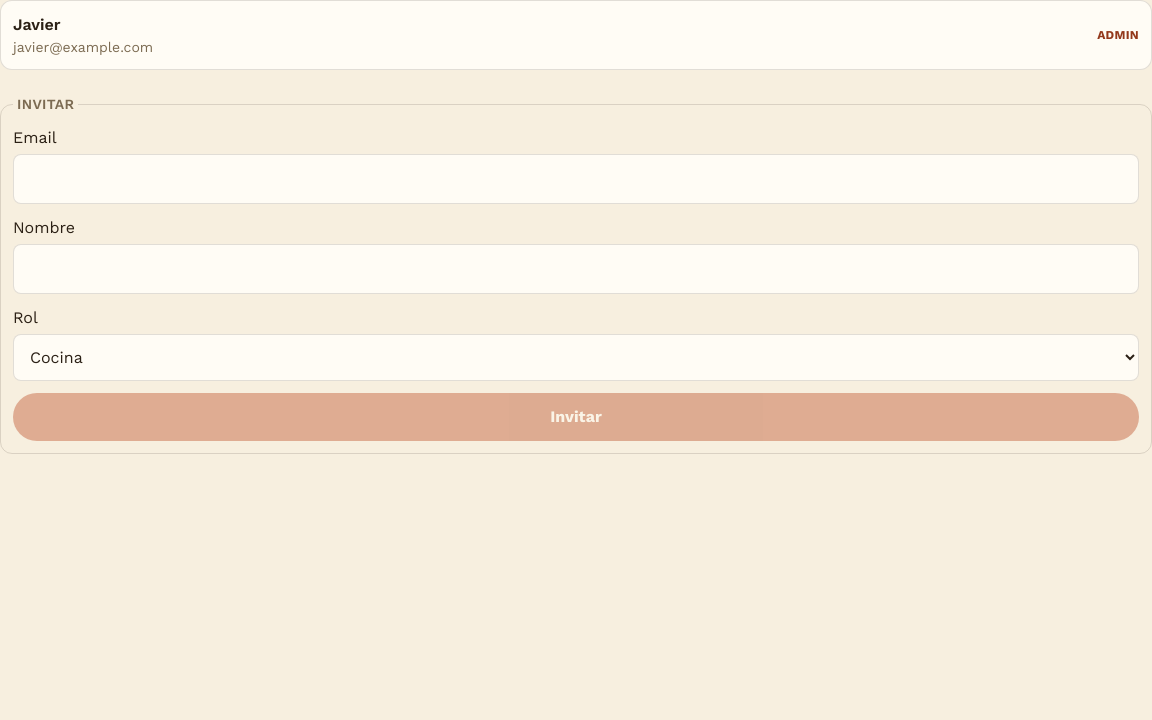
Test: VistaEquipo › invita a una persona nueva y refresca el listado
Type "ana@example.com" into the field labelled "Email" at [576, 179], box [13, 154, 1139, 204]
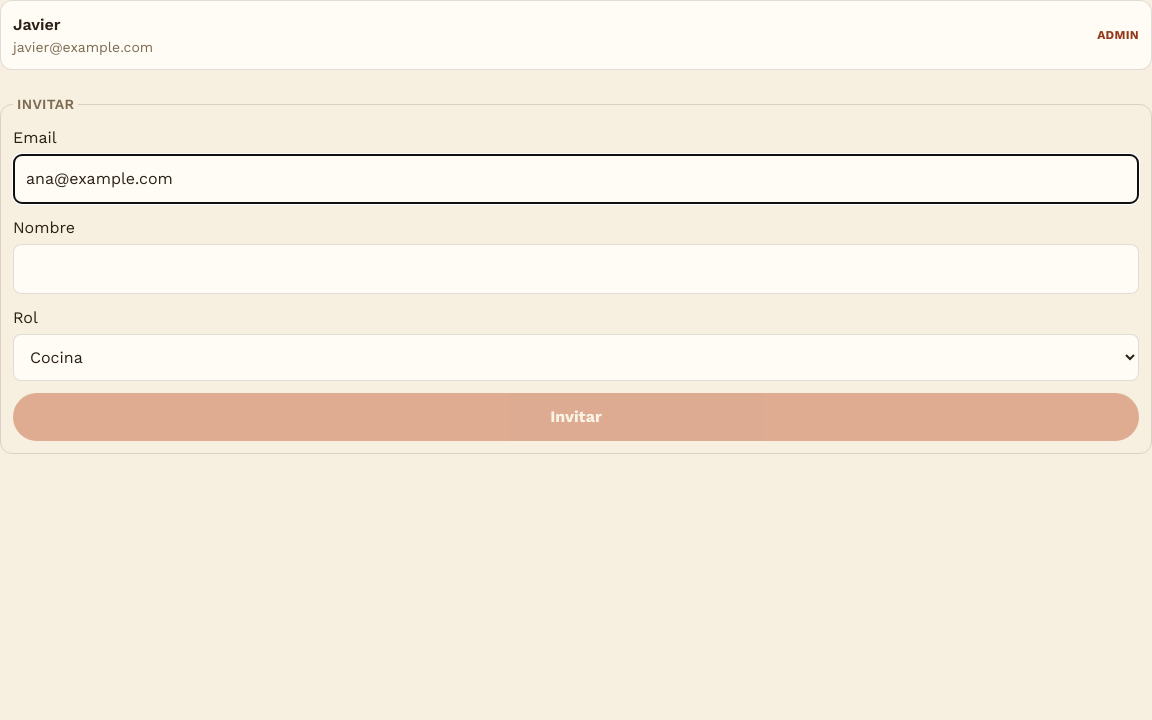
Type "Ana" into the field labelled "Nombre" at [576, 269], box [13, 244, 1139, 294]
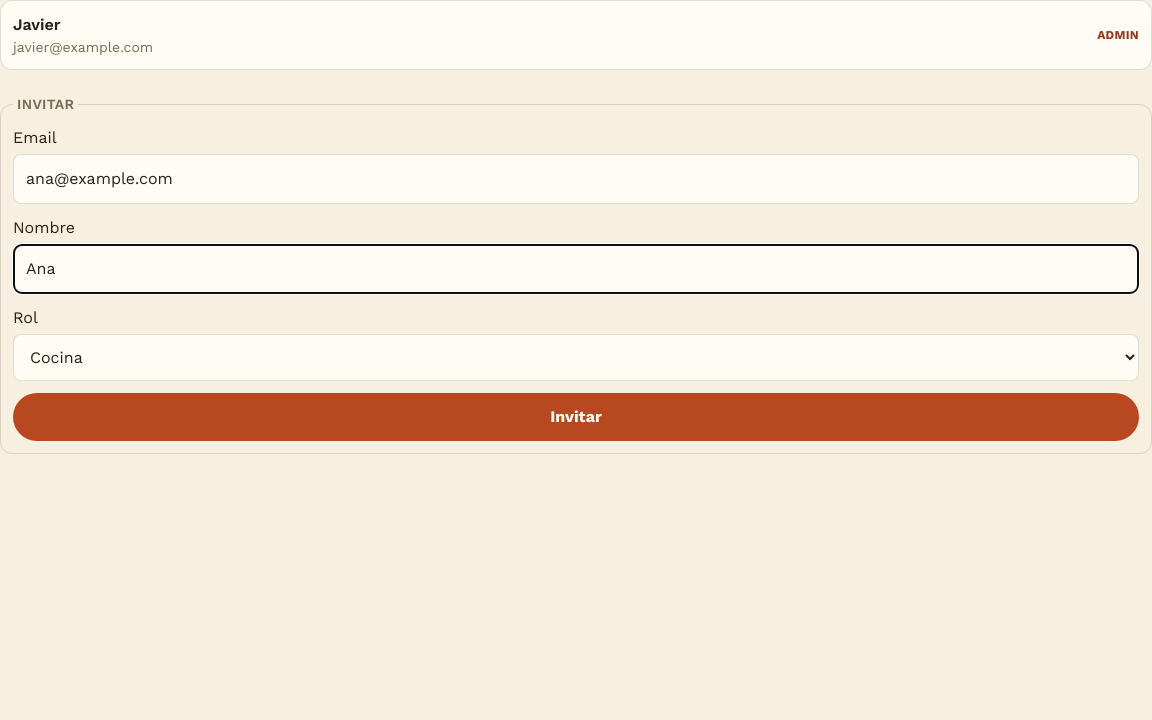
Select "Cocina" in the dropdown labelled "Rol" at [576, 358], box [13, 334, 1139, 381]
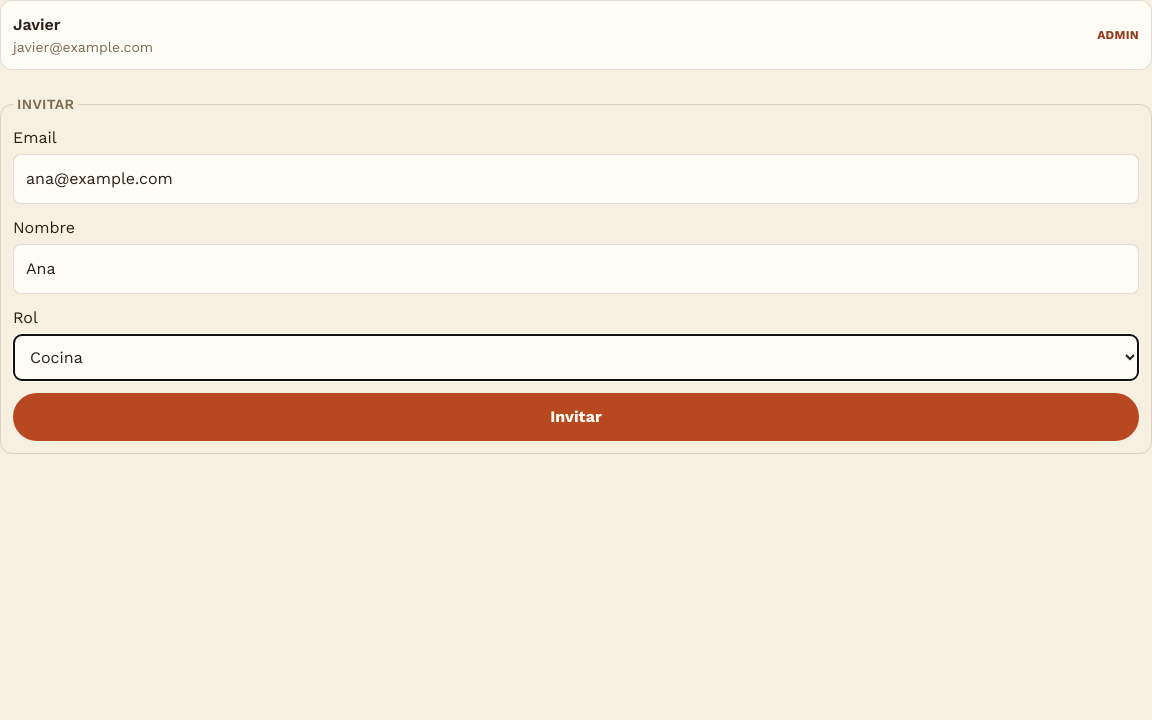
Click the button "Invitar" at [576, 417], box [13, 393, 1139, 441]
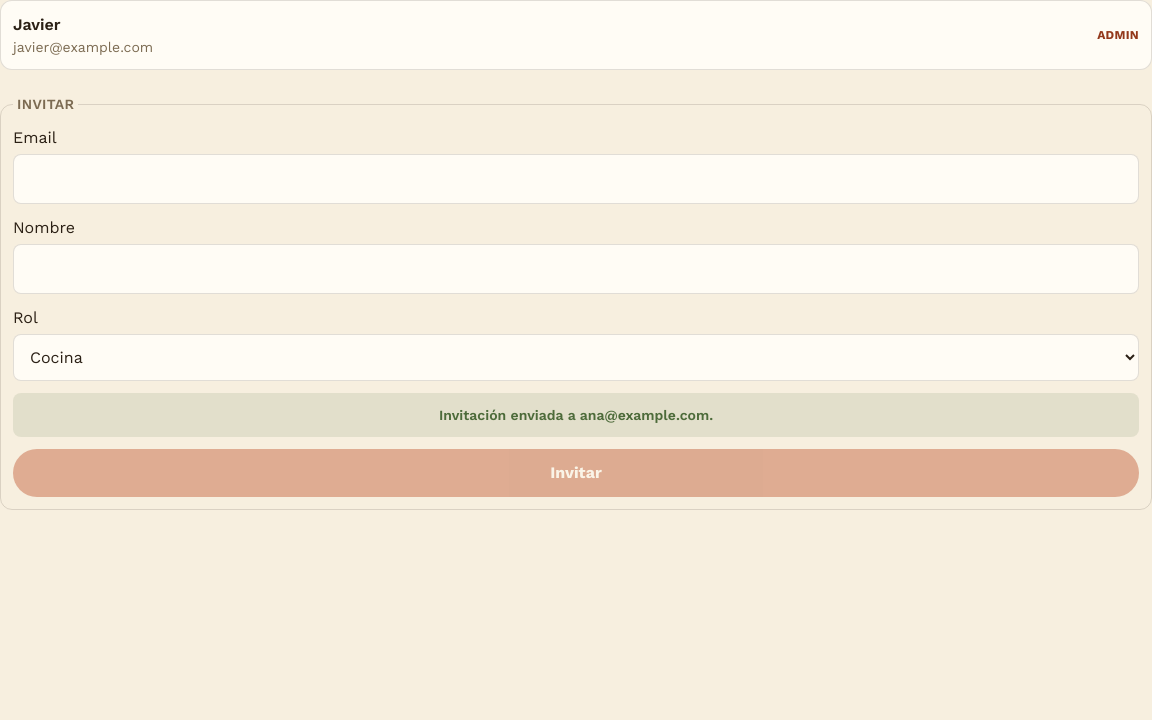
Now the text "Invitación enviada a ana@example.com." is shown, box [13, 393, 1139, 437]
